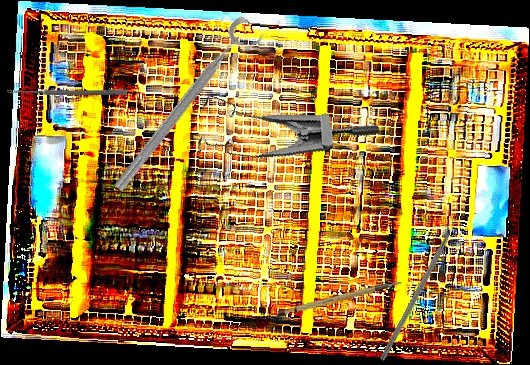Fixation Ring: (108, 14, 268, 203)
Hook Surgical: (379, 213, 464, 362)
Scalpel Handle: (276, 280, 404, 319)
Speculum: (184, 50, 381, 188)
Surgical Spoon: (7, 89, 127, 95)
